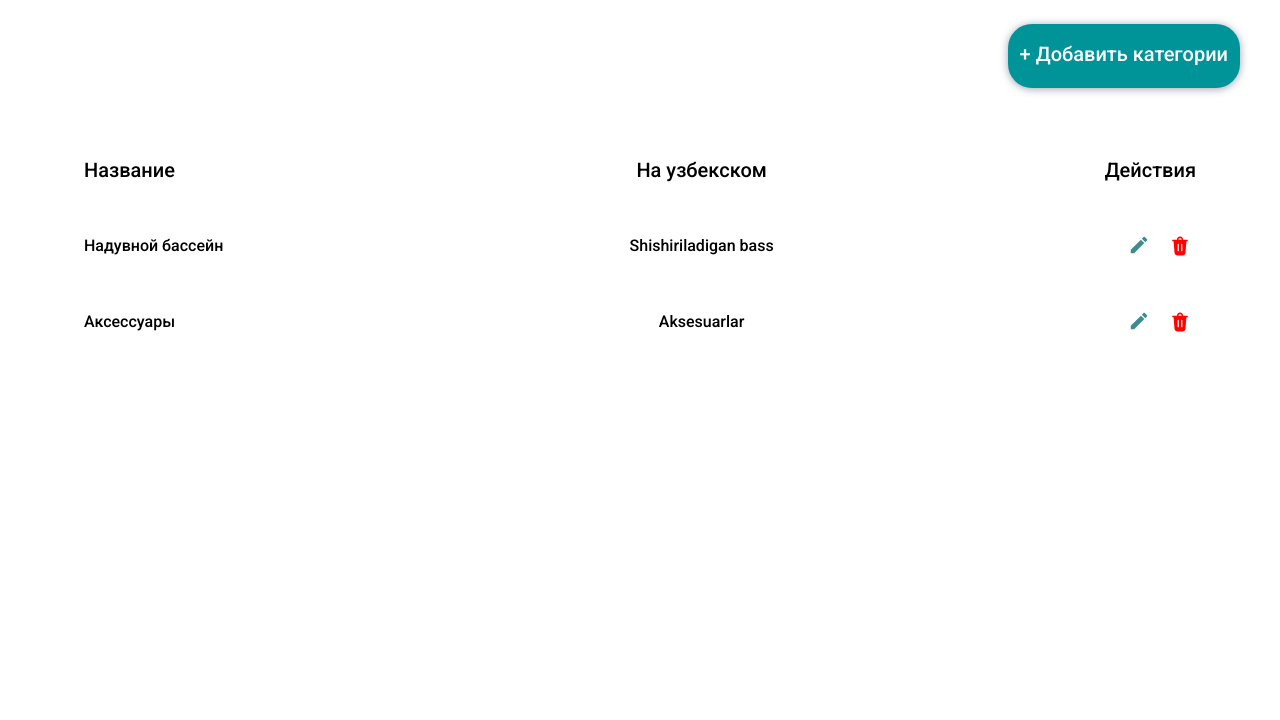
Test: Category › should find text
The width and height of the screenshot is (1280, 720).
Expected: the row with test id "category_item_3" is shown, [40,212,1240,280]
Click the element with test id "category_edit_3".
click(1139, 245)  # box [1130,236,1148,254]
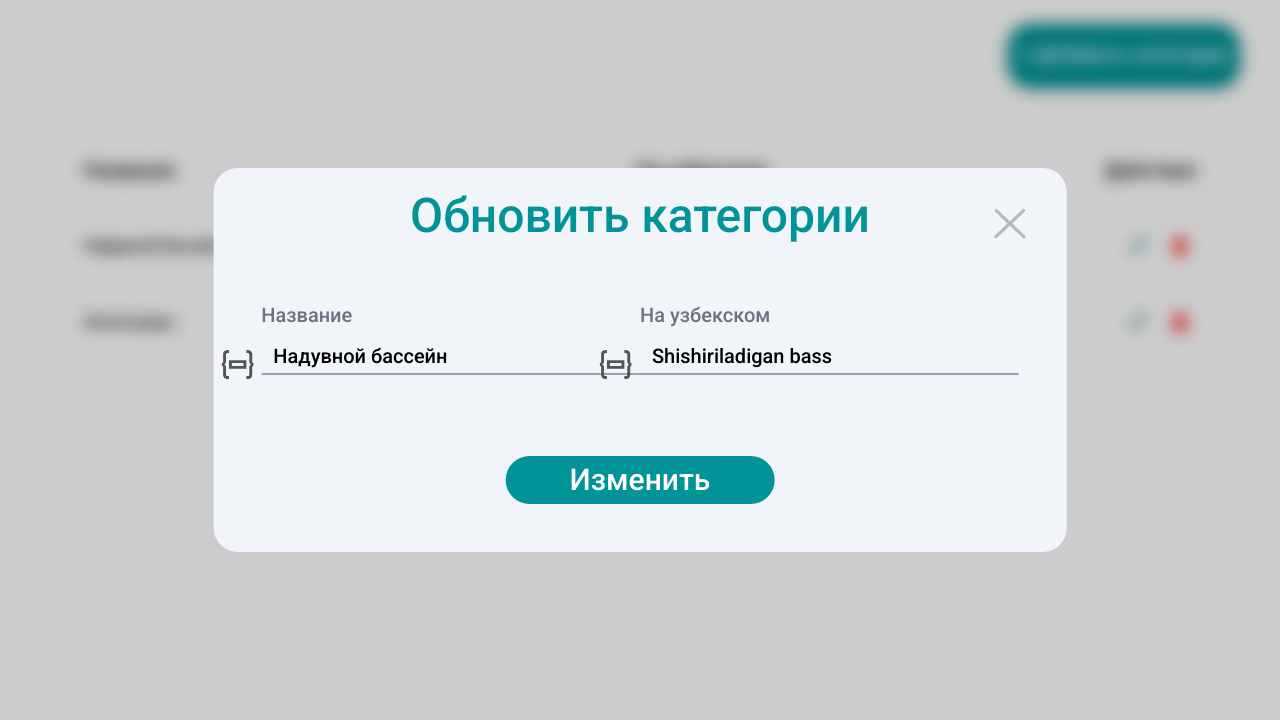
Expected: the element with test id "category_modal" is shown, [213,168,1067,552]
Click the element with test id "exit_category_modal".
click(77, 360)  # box [0,0,1279,719]
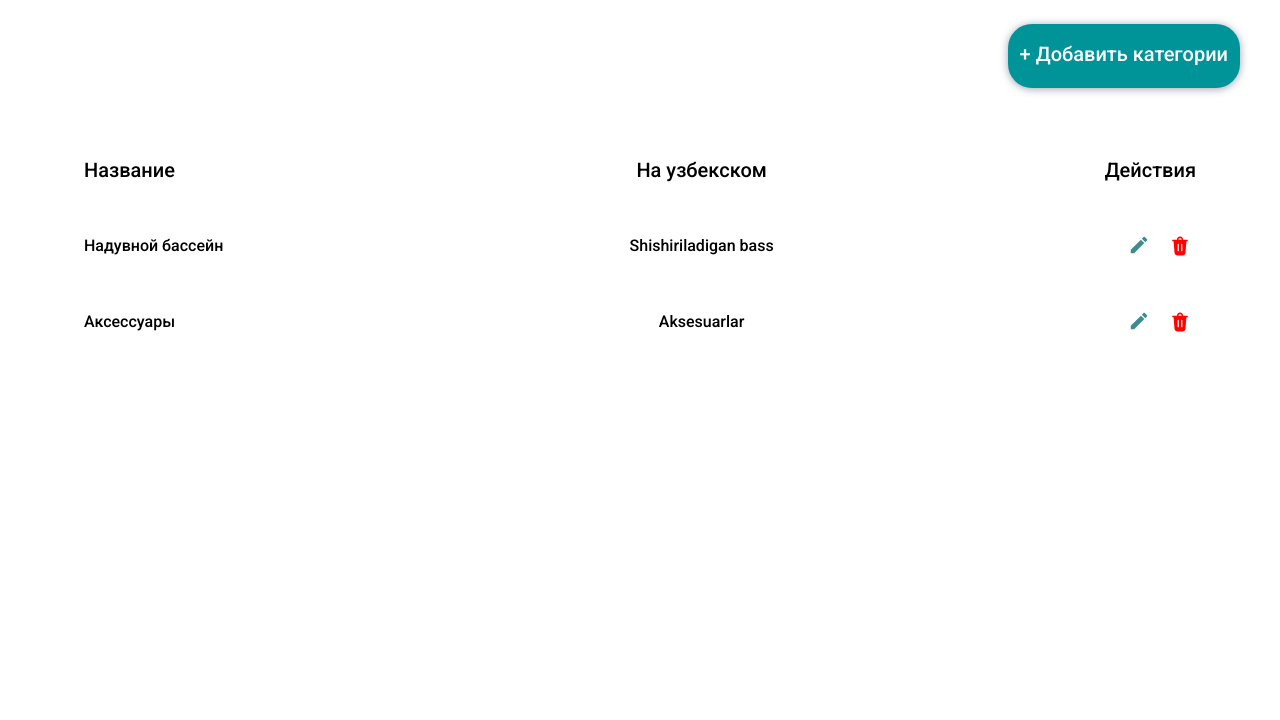
Click the element with test id "category_edit_3".
click(1139, 245)  # box [1130,236,1148,254]
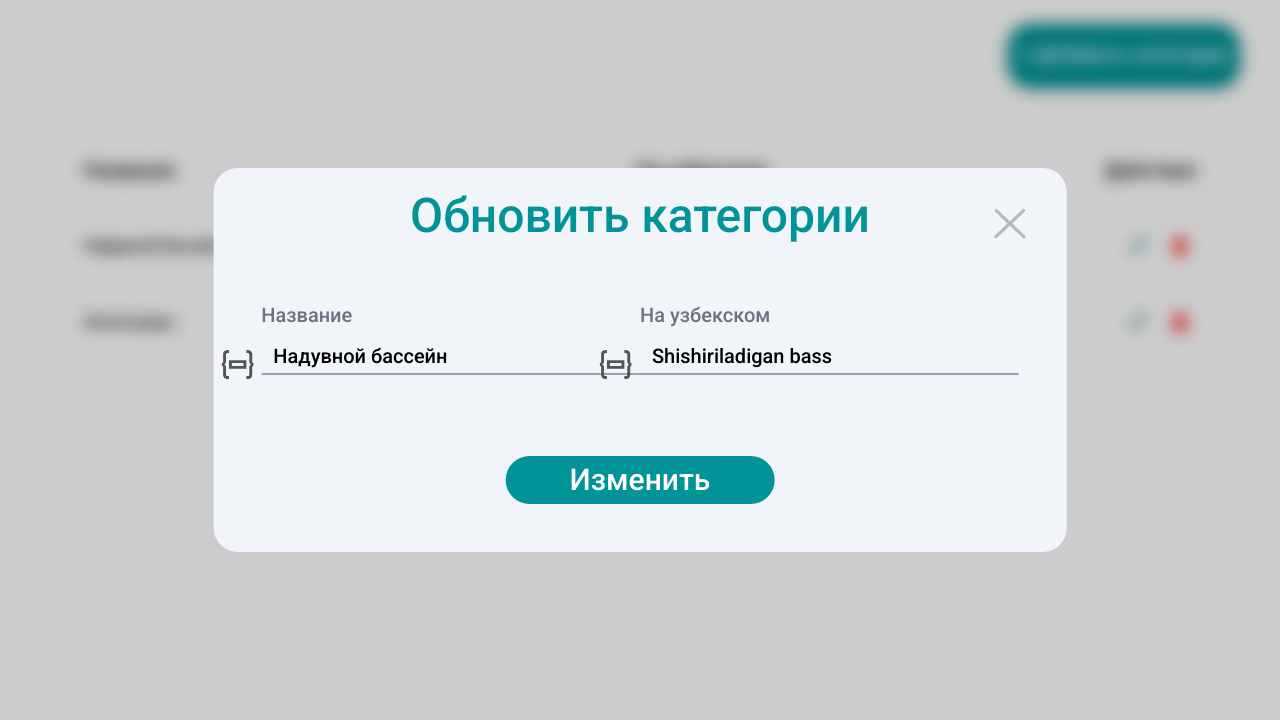
Expected: the element with test id "category_modal" is shown, [213,168,1067,552]
Click the element with test id "exit_category_modal".
click(77, 360)  # box [0,0,1279,719]
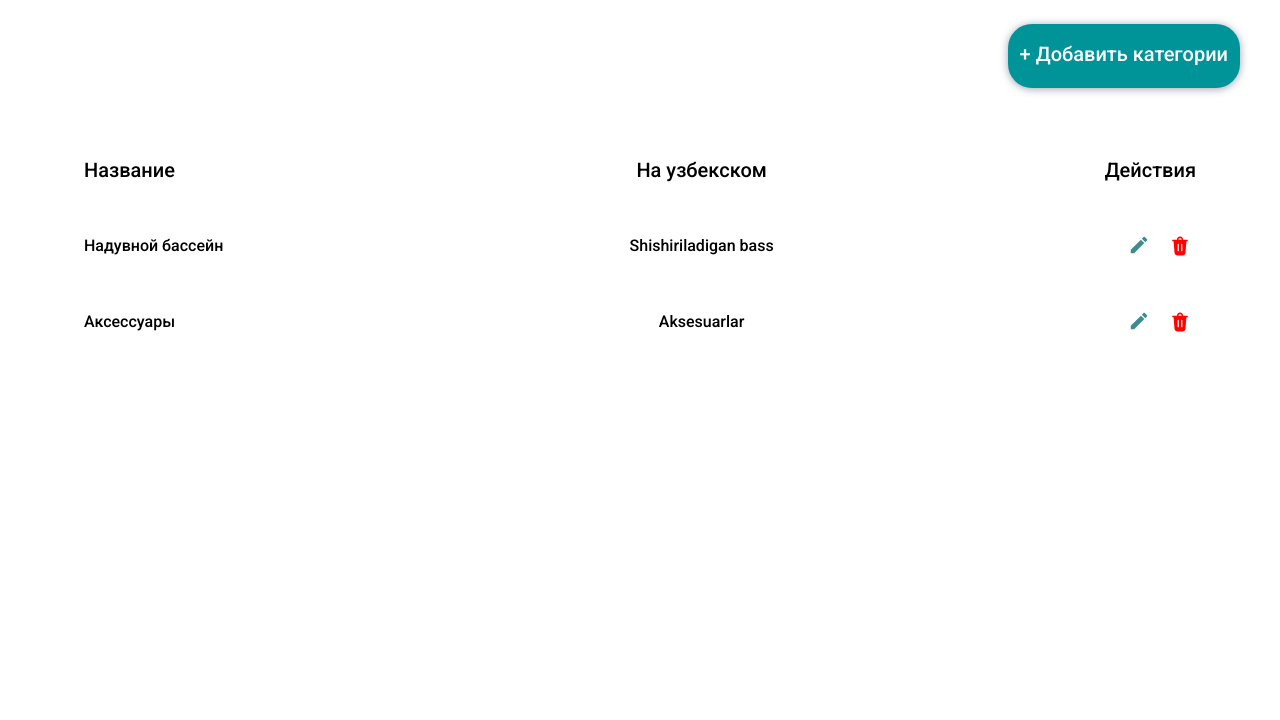
Click the button with test id "add_category".
click(1124, 56)  # box [1008,24,1240,88]
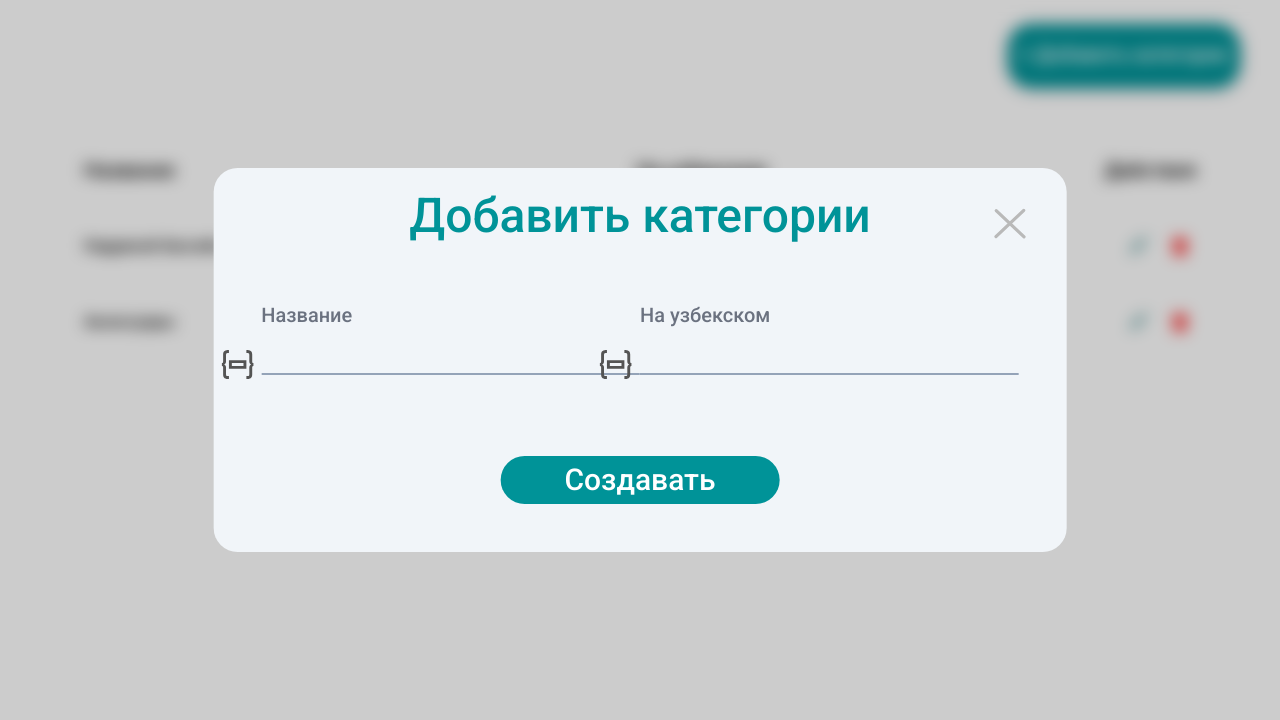
Expected: the element with test id "category_modal" is shown, [213,168,1067,552]
